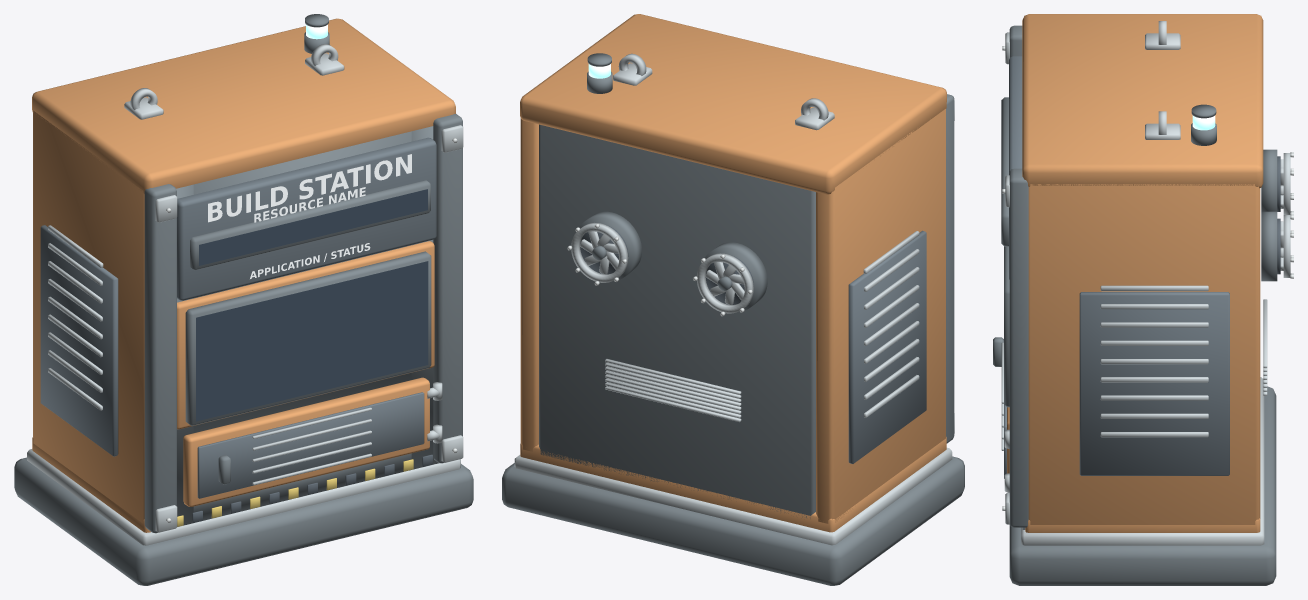
Rendered from build_station_ultra.glb.
The picture shows the model from 3 angles, left to right: view 1: azimuth 30°, elevation 25°; view 2: azimuth 150°, elevation 25°; view 3: azimuth 270°, elevation 25°; orthographic projection. The views are drawn at different scales.
Visible parts, largest first — view 1: Roof_orange, LiveViewSurface_glass, SideWall_orange, Skid_frame, CornerPost_frame, FrontHeader_graphite, SideServicePanel_graphite, DoorMoving_Inset_graphite, DoorMoving_Panel_orange, SkidDeck_steel, LiveViewSurfaceFrame_frame, ResourceNameSurface_glass (+15 smaller); view 2: BackWall_frame, Roof_orange, SideWall_orange, Skid_frame, SideServicePanel_graphite, SkidDeck_steel, KickPlate_orange, RearFan_steel, RearVent_steel, SideLouver_steel, CornerPost_frame, RearFan_frame (+3 smaller); view 3: SideWall_orange, Roof_orange, SideServicePanel_graphite, Skid_frame, CornerPost_frame, SideLouver_steel, SkidDeck_steel, RearFan_frame, KickPlate_orange, FrontHeader_graphite, RearFan_steel, ResourceNameSurfaceFrame_frame (+7 smaller).
Part boxes in pixels (x1,y1,x2,y2): Roof_orange: (32, 18, 455, 194); LiveViewSurface_glass: (196, 261, 428, 421); SideWall_orange: (33, 110, 144, 523); Skid_frame: (14, 457, 473, 585); CornerPost_frame: (144, 114, 462, 533); FrontHeader_graphite: (177, 137, 436, 300); SideServicePanel_graphite: (40, 225, 118, 456); DoorMoving_Inset_graphite: (197, 392, 424, 498); DoorMoving_Panel_orange: (183, 377, 429, 506); SkidDeck_steel: (27, 449, 460, 545); LiveViewSurfaceFrame_frame: (185, 251, 431, 425); ResourceNameSurface_glass: (199, 189, 427, 265); BackWall_frame: (539, 124, 815, 518); Roof_orange: (520, 14, 946, 194); SideWall_orange: (520, 109, 945, 523); Skid_frame: (502, 456, 964, 585); SideServicePanel_graphite: (848, 230, 926, 463); SkidDeck_steel: (514, 447, 952, 545); KickPlate_orange: (520, 437, 946, 532); RearFan_steel: (571, 222, 753, 313); RearVent_steel: (605, 359, 741, 422); SideLouver_steel: (863, 231, 919, 417); CornerPost_frame: (946, 94, 954, 443); RearFan_frame: (579, 211, 767, 311); SideWall_orange: (1028, 184, 1260, 524); Roof_orange: (1022, 14, 1263, 188); SideServicePanel_graphite: (1079, 292, 1229, 475); Skid_frame: (1009, 386, 1276, 585); CornerPost_frame: (1009, 25, 1028, 527); SideLouver_steel: (1100, 285, 1208, 437); SkidDeck_steel: (1021, 377, 1264, 545); RearFan_frame: (1261, 149, 1277, 281); KickPlate_orange: (1025, 518, 1260, 532); FrontHeader_graphite: (1009, 56, 1022, 279); RearFan_steel: (1280, 153, 1290, 277); ResourceNameSurfaceFrame_frame: (1001, 97, 1008, 246).
Bounding box in the file's own units: 2 × 2.48 × 1.51.
